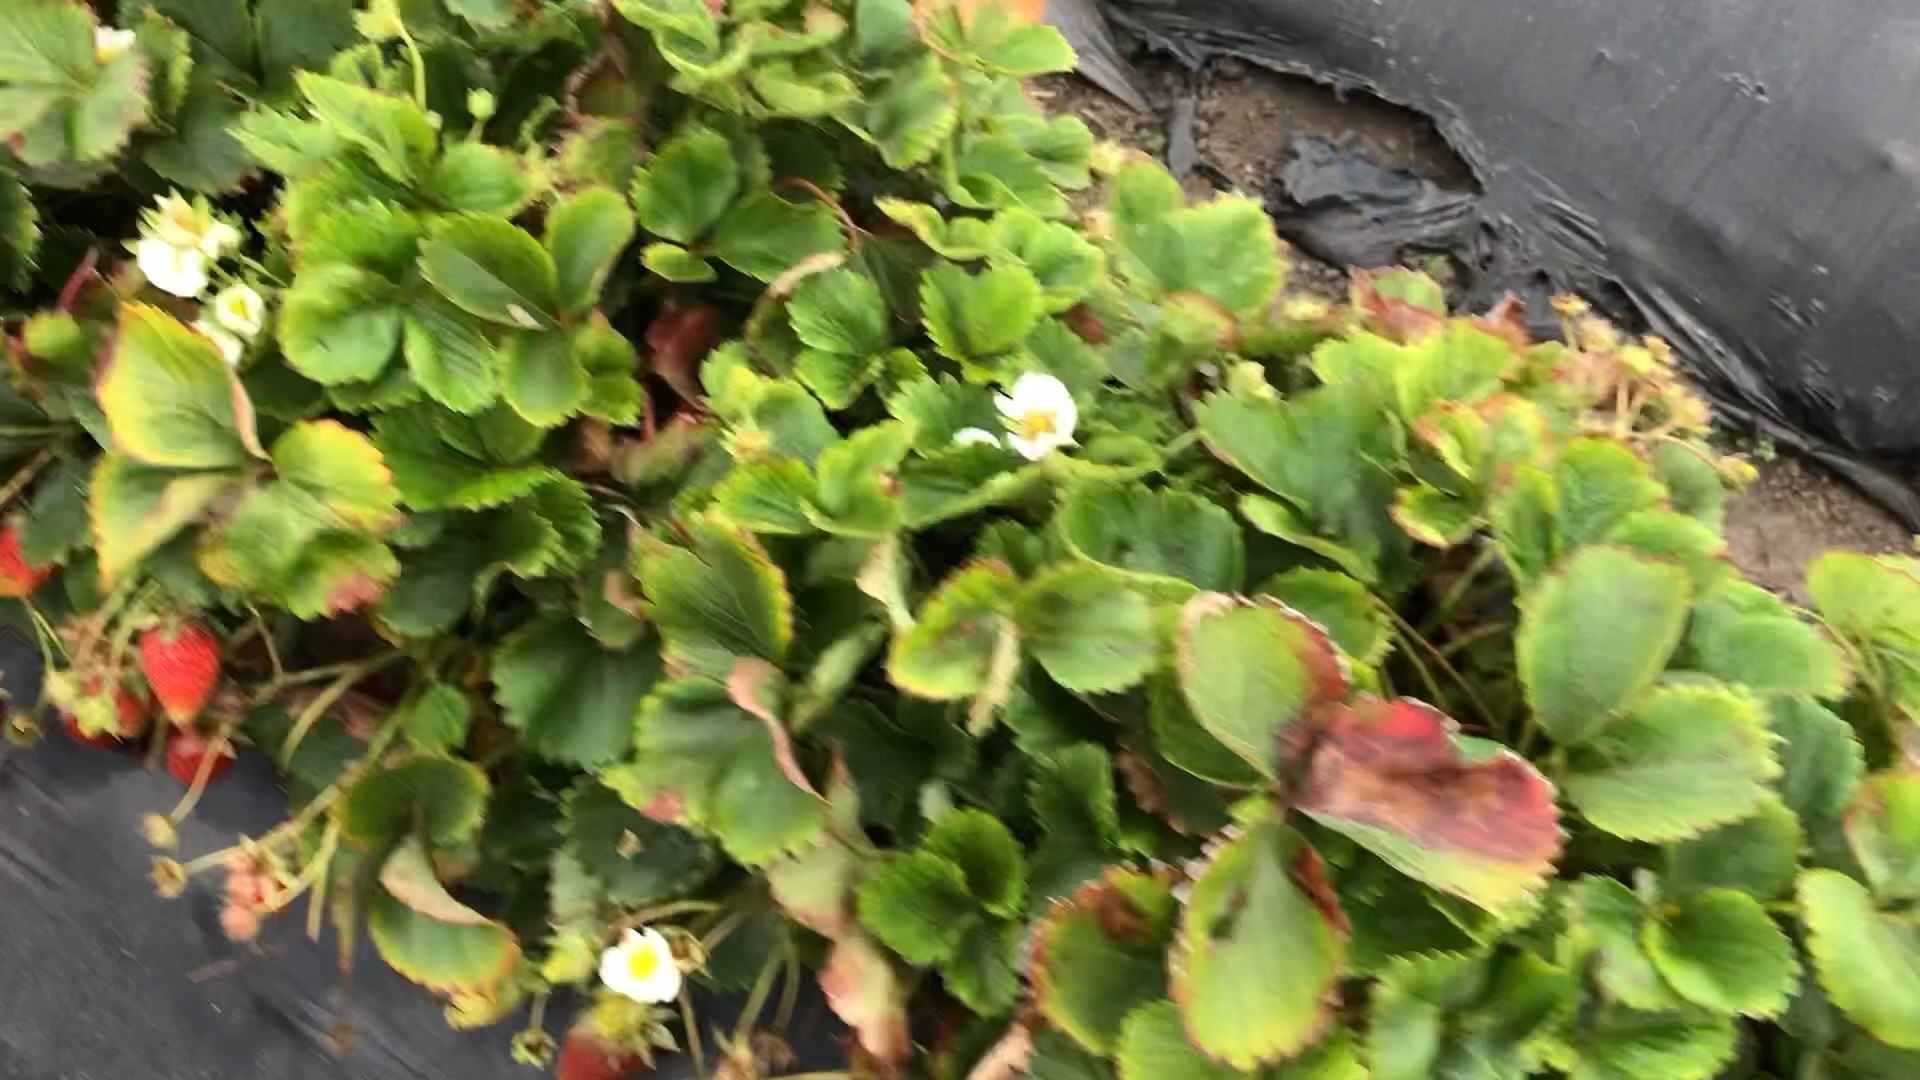ripe_strawberry: (135, 604, 227, 731), (549, 996, 673, 1080), (55, 669, 149, 754), (1, 506, 59, 607), (164, 721, 237, 793)
